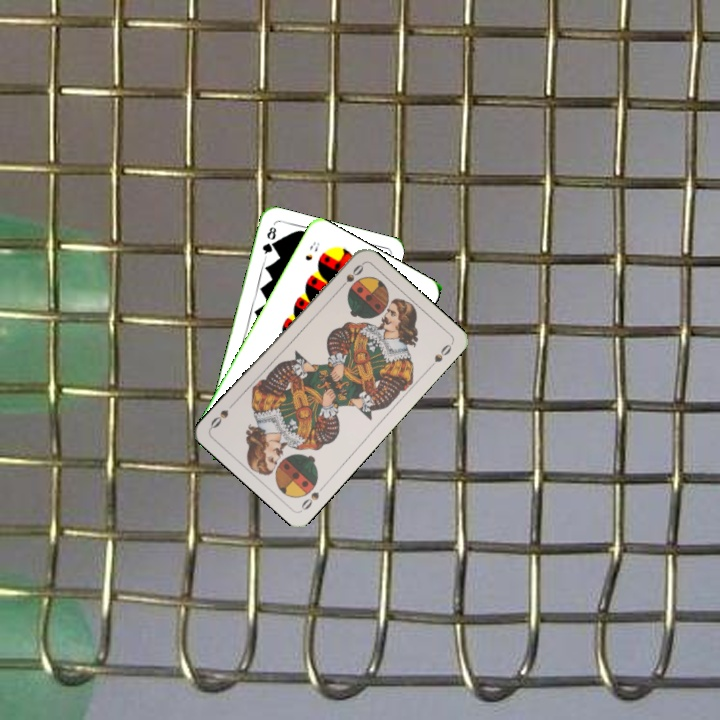G8: (258, 222, 279, 261)
S8: (301, 238, 322, 264)
SO: (334, 260, 366, 293), (297, 480, 328, 513)
